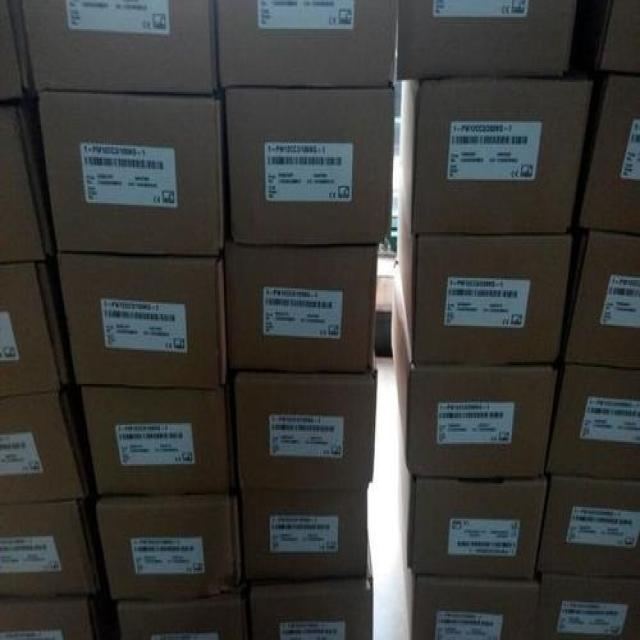box: (390, 266, 558, 477), (396, 179, 572, 366), (397, 74, 592, 236), (38, 93, 223, 254), (221, 89, 394, 239), (395, 426, 544, 580), (59, 255, 225, 389), (226, 244, 380, 375), (21, 2, 220, 97), (78, 388, 231, 497), (232, 375, 377, 487), (214, 3, 396, 89), (95, 492, 238, 601), (396, 2, 572, 83), (246, 538, 372, 638), (239, 488, 368, 584), (0, 498, 110, 602), (559, 232, 639, 372), (543, 369, 639, 485), (574, 77, 639, 237), (536, 480, 639, 577), (0, 99, 56, 268), (402, 570, 539, 638), (539, 572, 639, 638), (565, 3, 639, 79), (115, 595, 245, 638), (0, 594, 119, 638), (0, 1, 36, 104)
